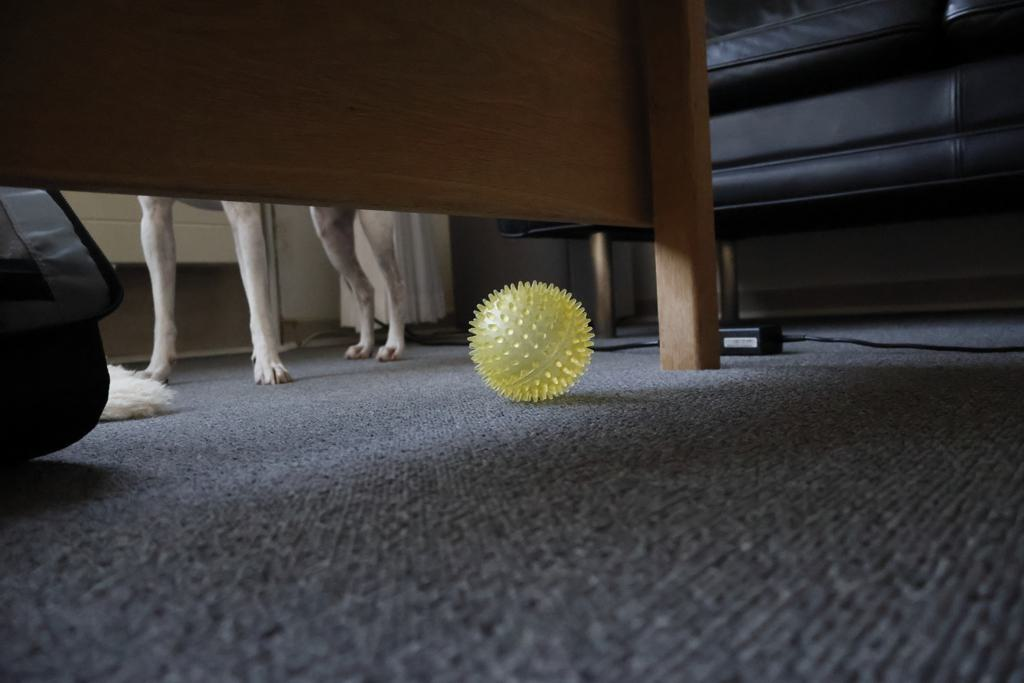Dog: (114, 183, 423, 395)
